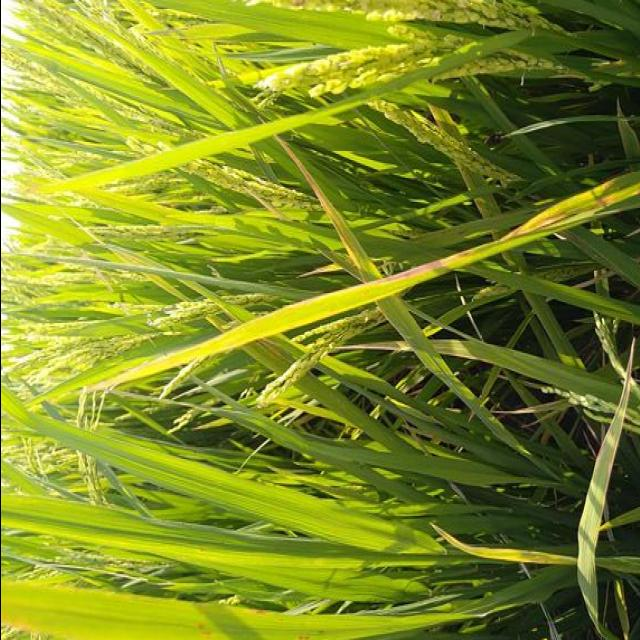Leaf Blight: (101, 170, 640, 389), (577, 335, 636, 640), (289, 151, 383, 281), (436, 339, 548, 363), (330, 341, 410, 353)
